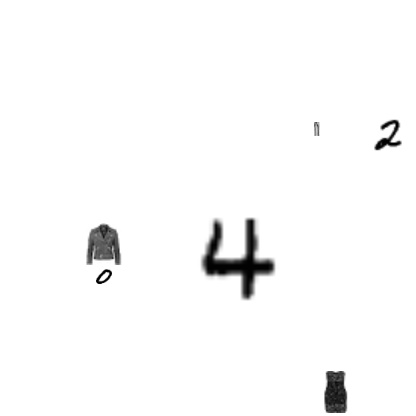0: (93, 265, 115, 287)
2: (367, 114, 409, 156)
4: (178, 203, 290, 315)
Coat: (82, 223, 124, 265)
Dress: (314, 371, 356, 413)
Trouser: (310, 122, 324, 136)
